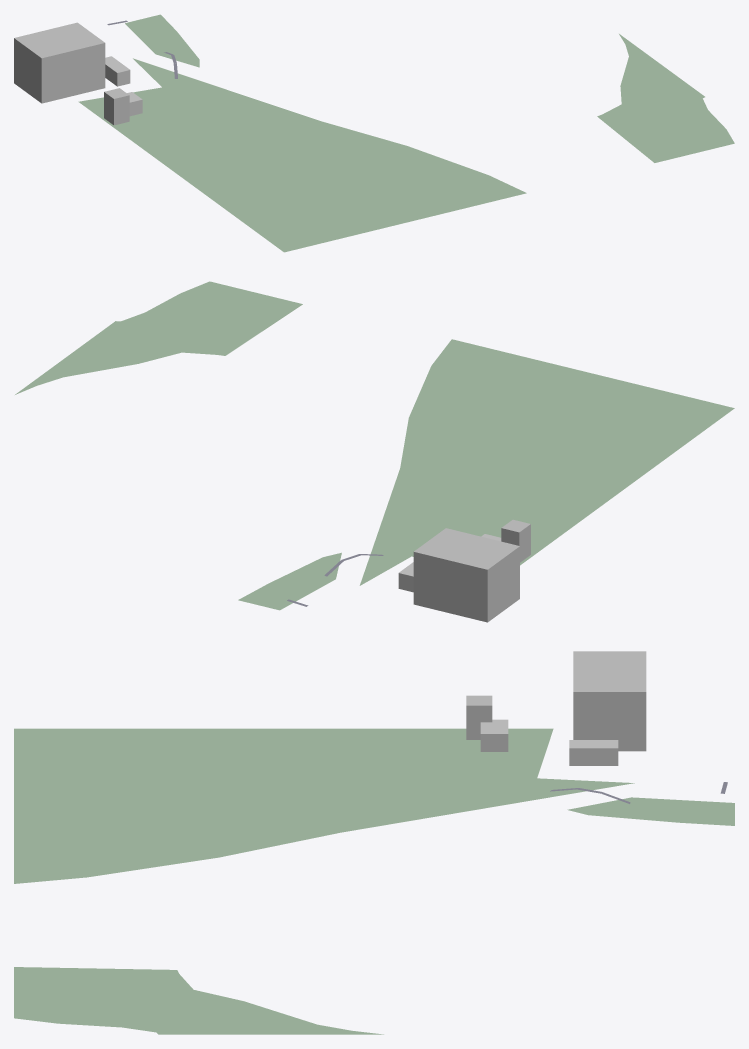
The model's file is 95_106_mid.glb.
3 renders of one model, top to bottom at view 1: azimuth 30°, elevation 25°; view 2: azimuth 150°, elevation 25°; view 3: azimuth 270°, elevation 25°, orthographic. The views are drawn at different scales.
Size of the model in its own units: 530 by 46.2 by 500.
